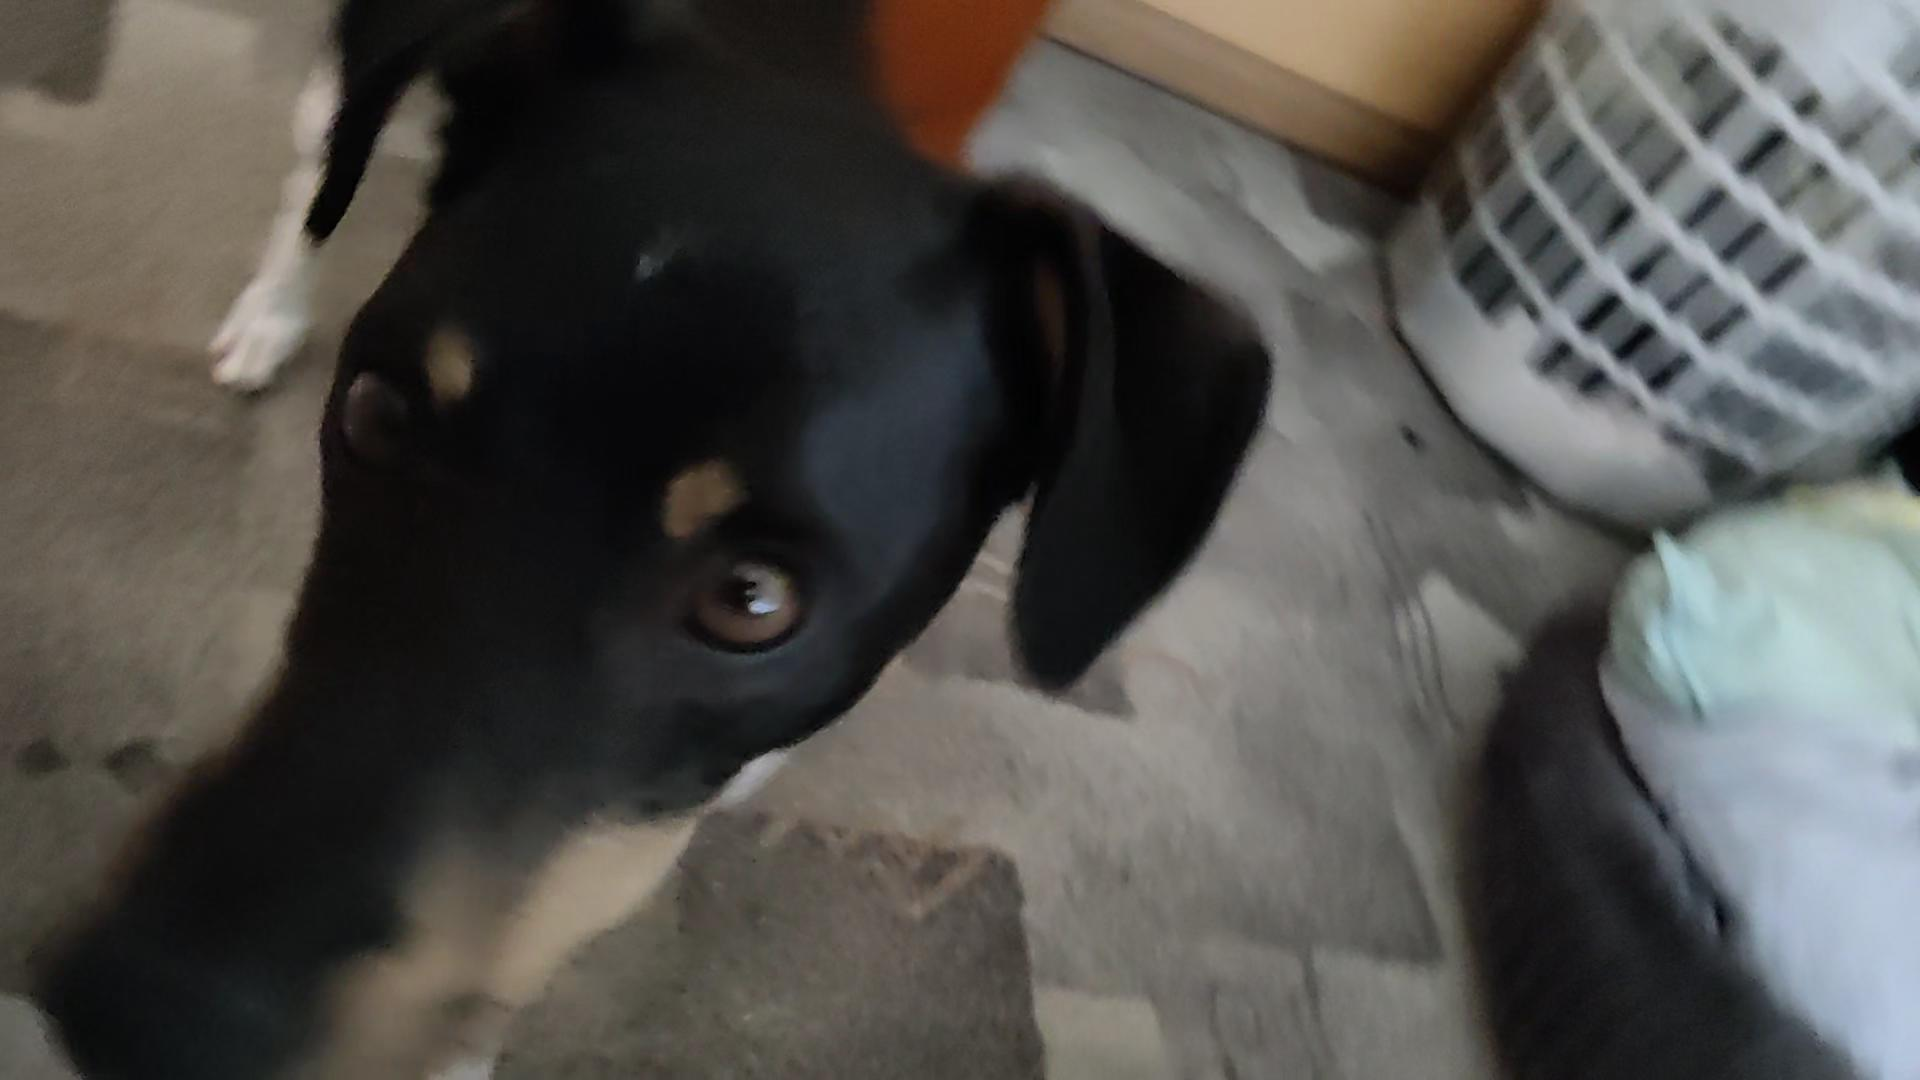Dog: (22, 0, 1291, 1079)
